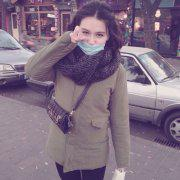WRONG: (75, 25, 110, 55)
